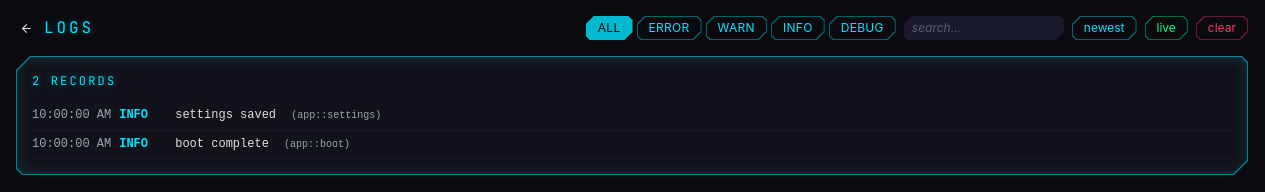
Test: LogsView › filters rows by the search box across message and target
The image size is (1265, 192).
In the field with placeholder "search…": (984, 28) [904,16,1064,40], type "settings"
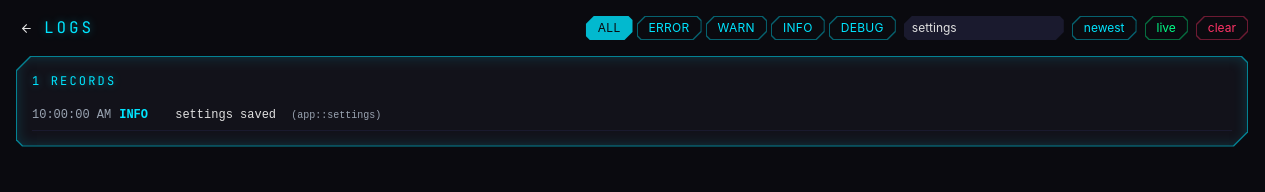
Check: the text "settings saved" is shown, box [175,108,276,122]
Check: the text "boot complete" is gone
